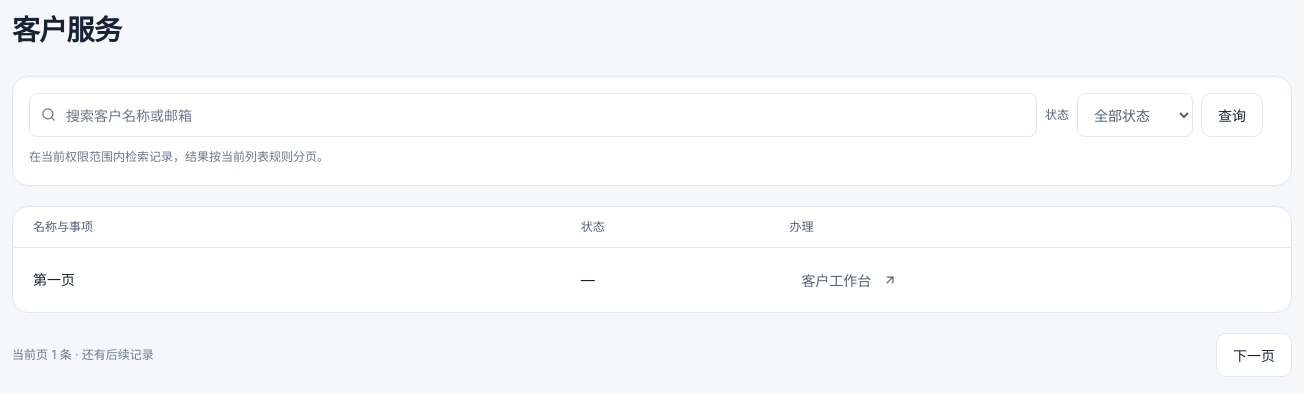
Test: returns to and refreshes the first page on search without changing the filter
Click the button "下一页" at (1254, 355), box [1216, 333, 1292, 377]
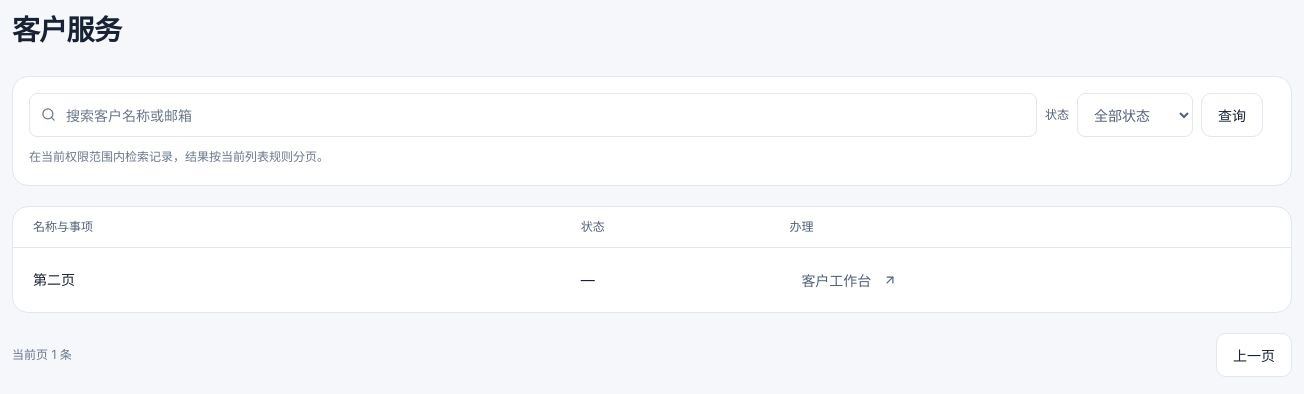
Clear the field named "搜索记录" at (533, 115), box [29, 93, 1037, 137]
Click the button "查询" at (1232, 115), box [1201, 93, 1263, 137]
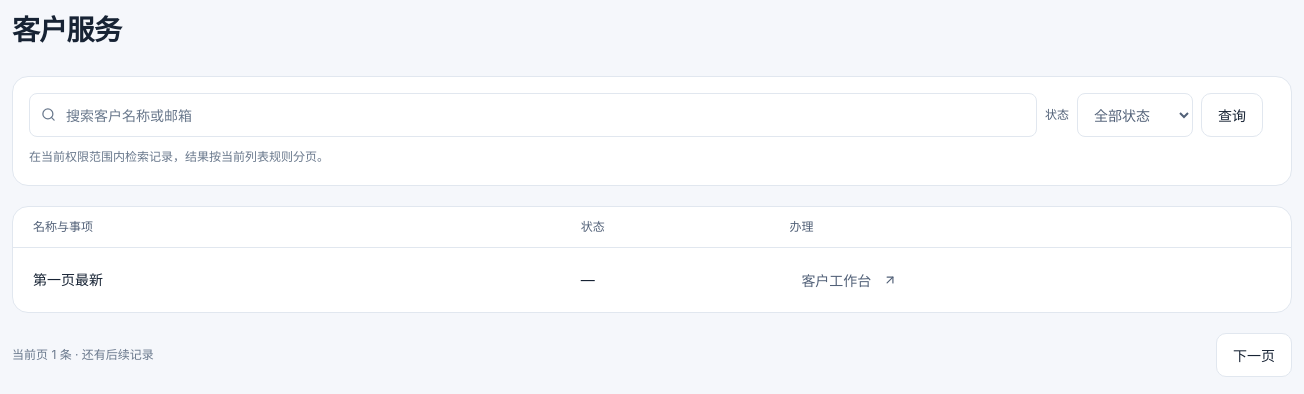
expect the button "上一页" is gone: met
